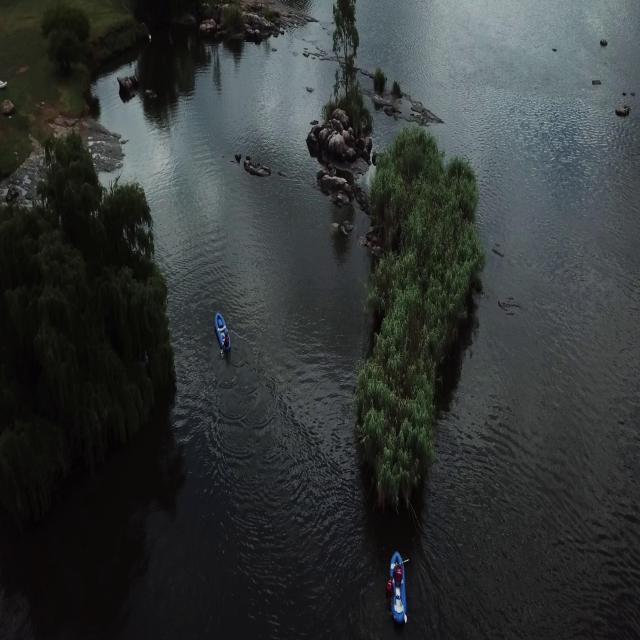kayak: (387, 554, 410, 622), (212, 308, 232, 356)
